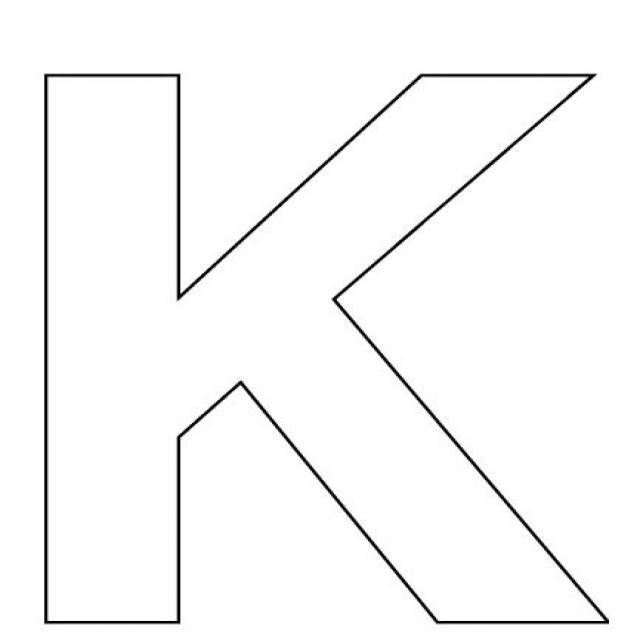K: (19, 40, 616, 636)
